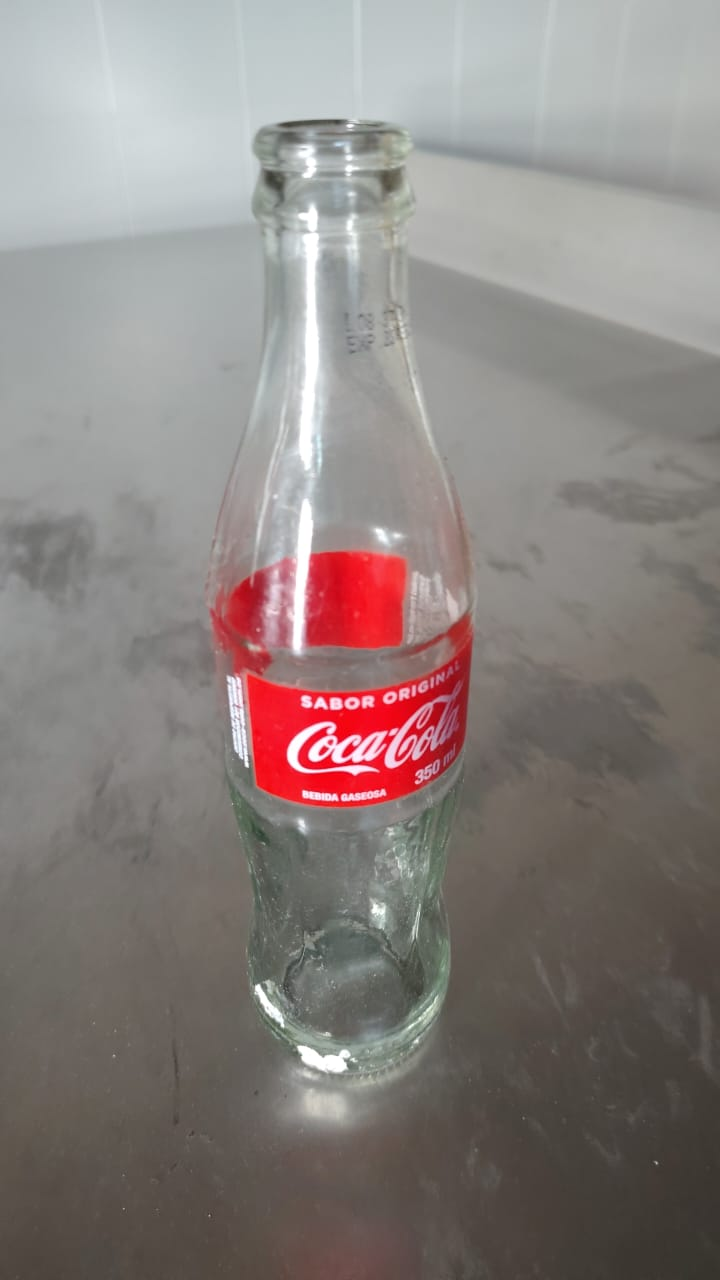Vidrio: (205, 120, 475, 1084)
